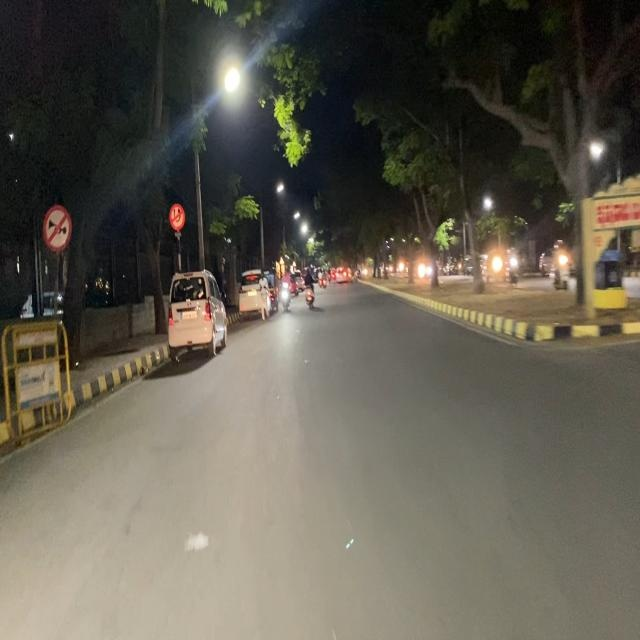bien_cam: (42, 202, 72, 254), (168, 203, 186, 231)
